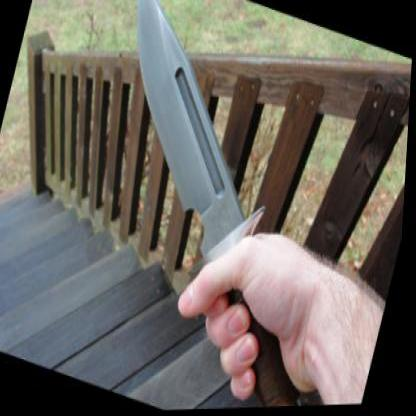knife: (54, 0, 337, 372)
